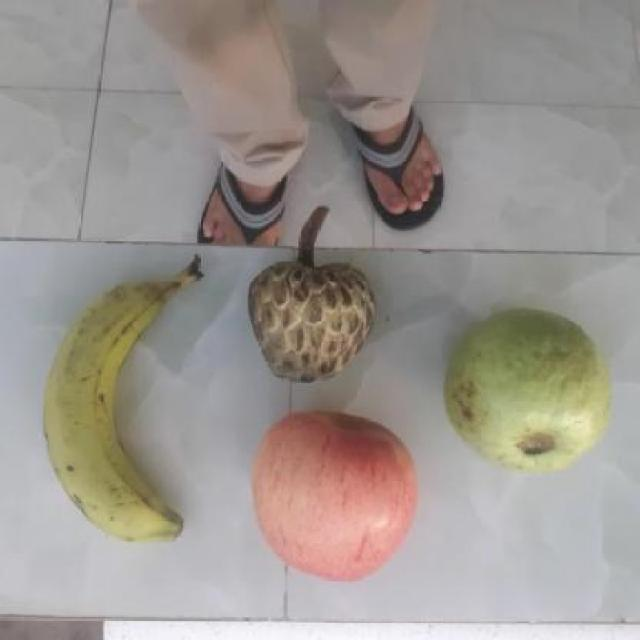apple: (248, 412, 427, 580)
banana: (50, 269, 198, 545)
guava: (449, 313, 620, 472)
sugar apple: (249, 258, 382, 391)
